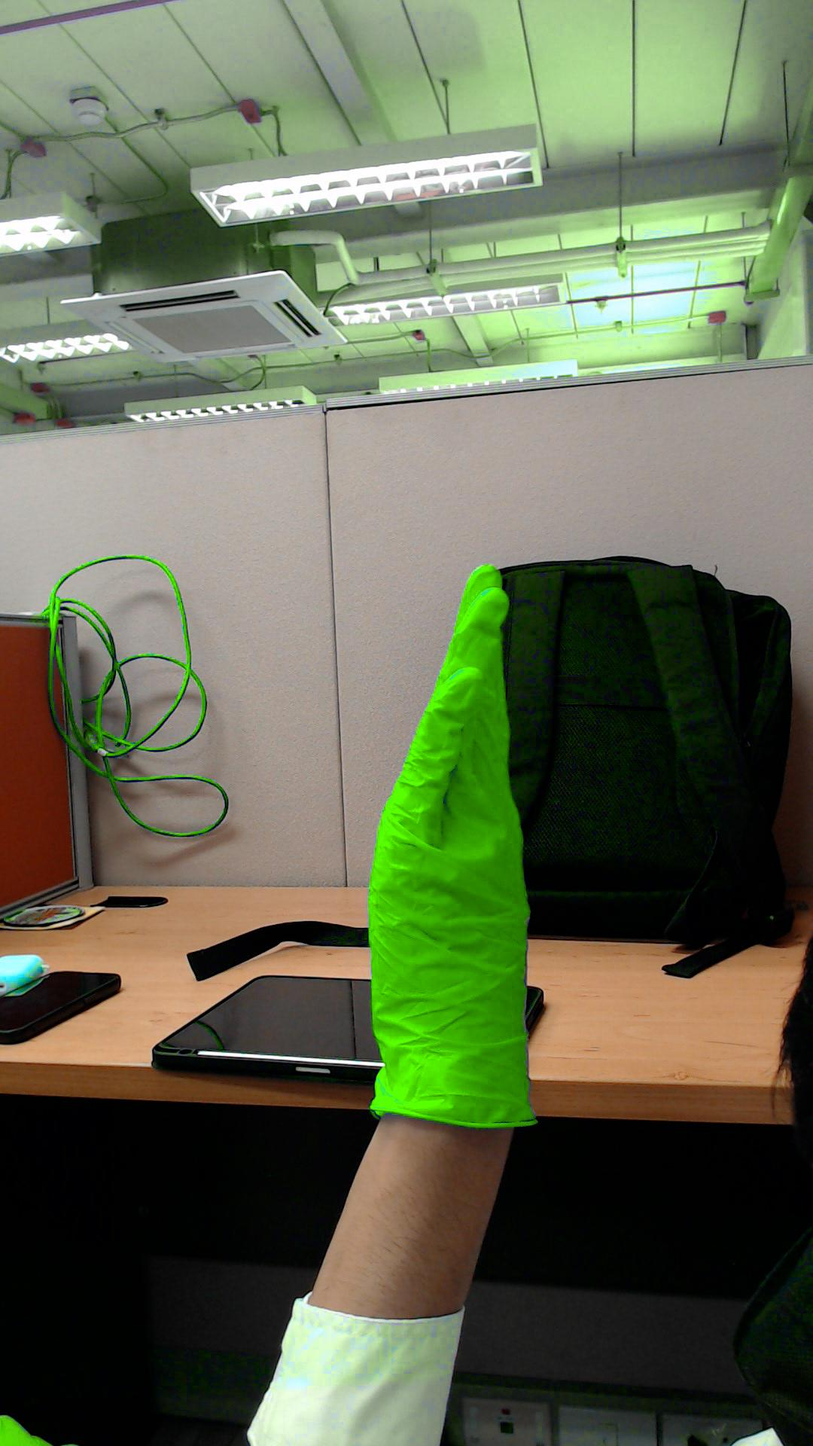gloves: (359, 550, 539, 1009)
